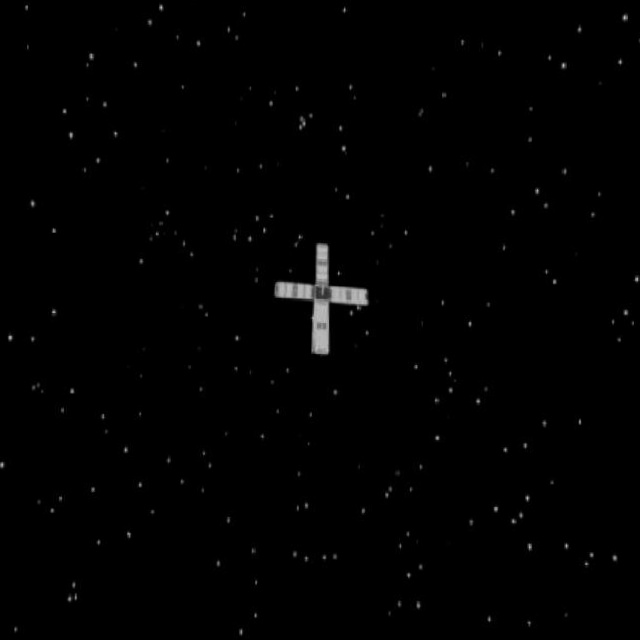medium_debris: (268, 237, 389, 372)
